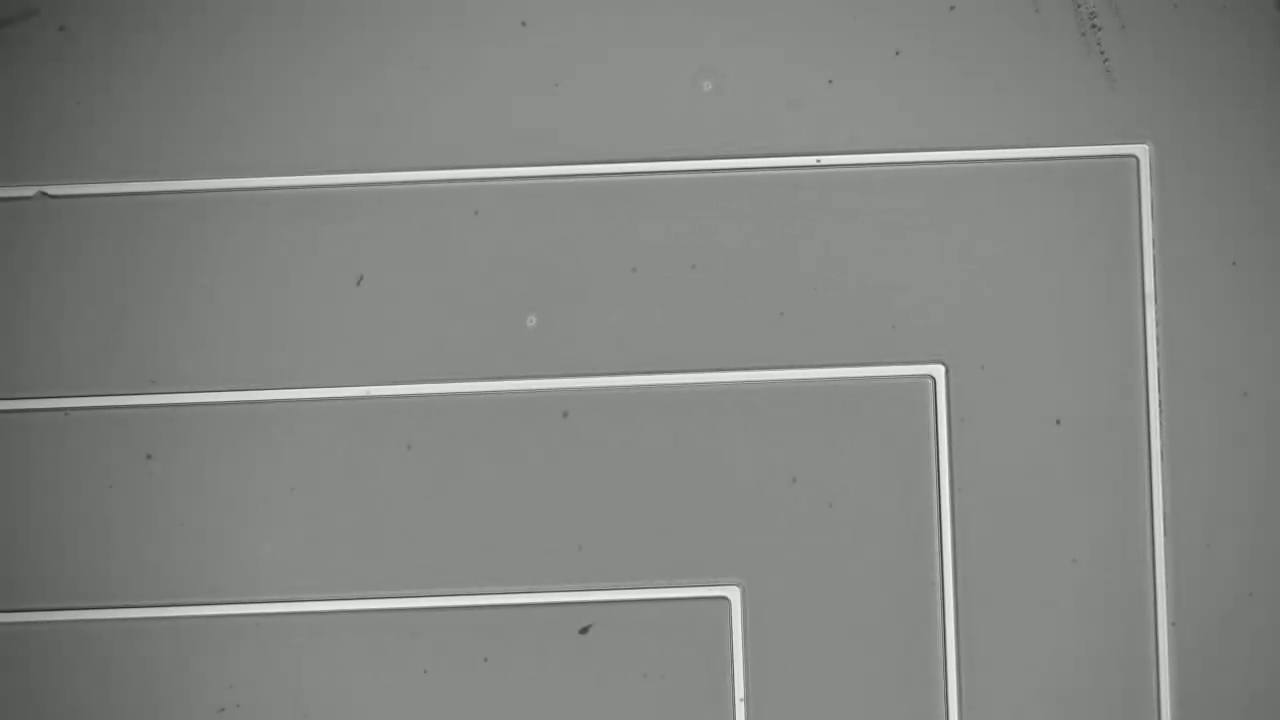scratch: (1062, 1, 1170, 108), (21, 177, 61, 208)
